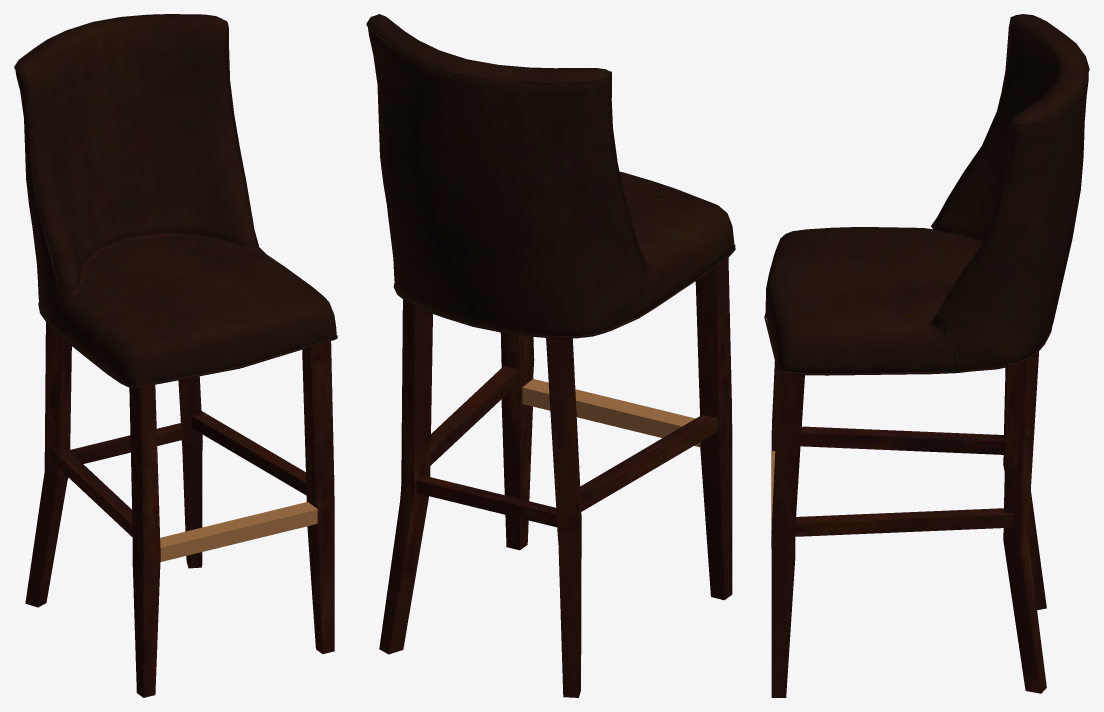
Rendered from office-barstool.glb.
3 renders of one model, left to right at view 1: azimuth 30°, elevation 25°; view 2: azimuth 150°, elevation 25°; view 3: azimuth 270°, elevation 25°, orthographic. The views are drawn at different scales.
Visible parts, largest first — view 1: Object_2, Object_3, Object_4; view 2: Object_2, Object_3, Object_4; view 3: Object_2, Object_3.
Part boxes in pixels (<box>): Object_2: <box>14,14,337,388</box>; Object_3: <box>25,322,334,697</box>; Object_4: <box>160,502,317,561</box>; Object_2: <box>366,14,735,338</box>; Object_3: <box>379,258,732,697</box>; Object_4: <box>522,379,700,447</box>; Object_2: <box>764,14,1089,375</box>; Object_3: <box>771,351,1046,697</box>.
Size of the model in its own units: 0.4751 by 1.17 by 0.5913.
3 materials, 2 textured.
